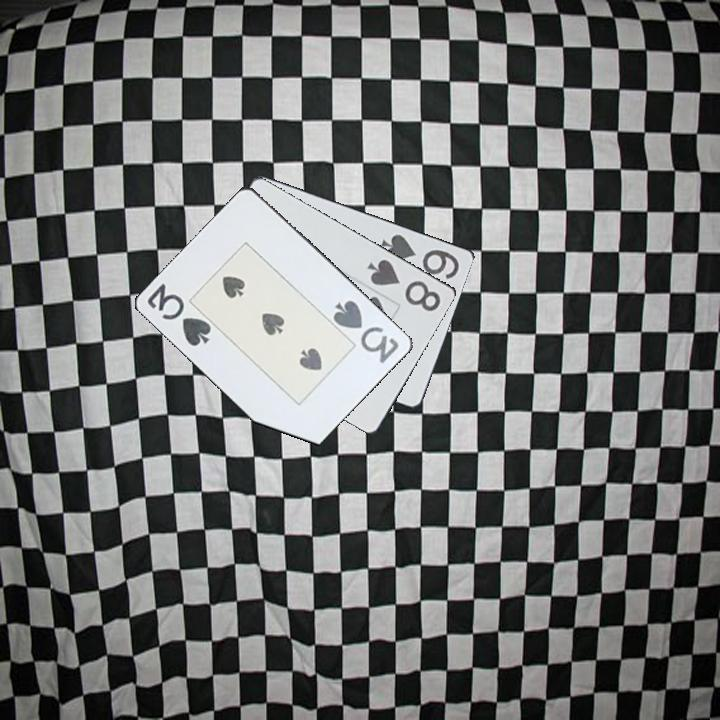3s: (329, 297, 402, 366), (144, 280, 215, 349)
6s: (377, 230, 463, 282)
8s: (364, 255, 444, 314)
